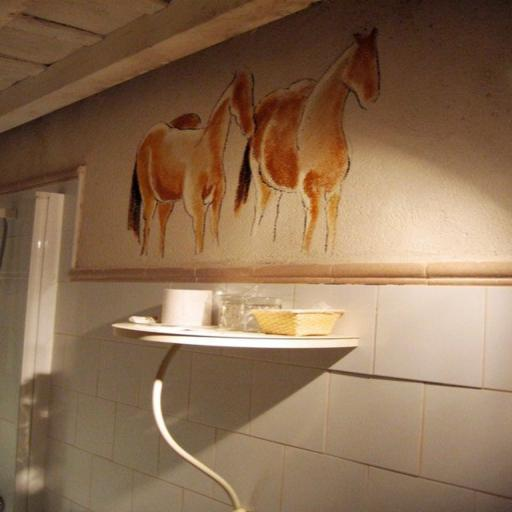horse: (234, 24, 384, 255), (122, 63, 260, 263)
